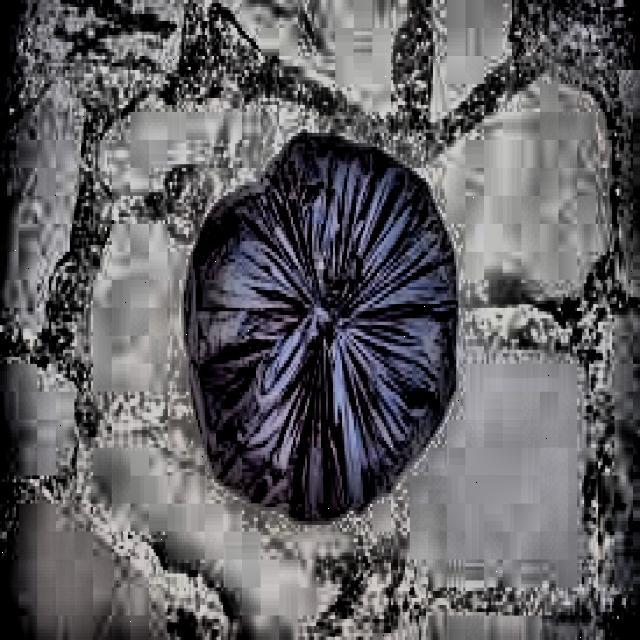Trashbag: (177, 131, 474, 528)
